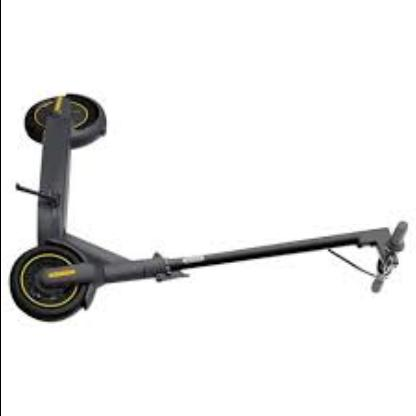bike: (9, 91, 411, 324)
